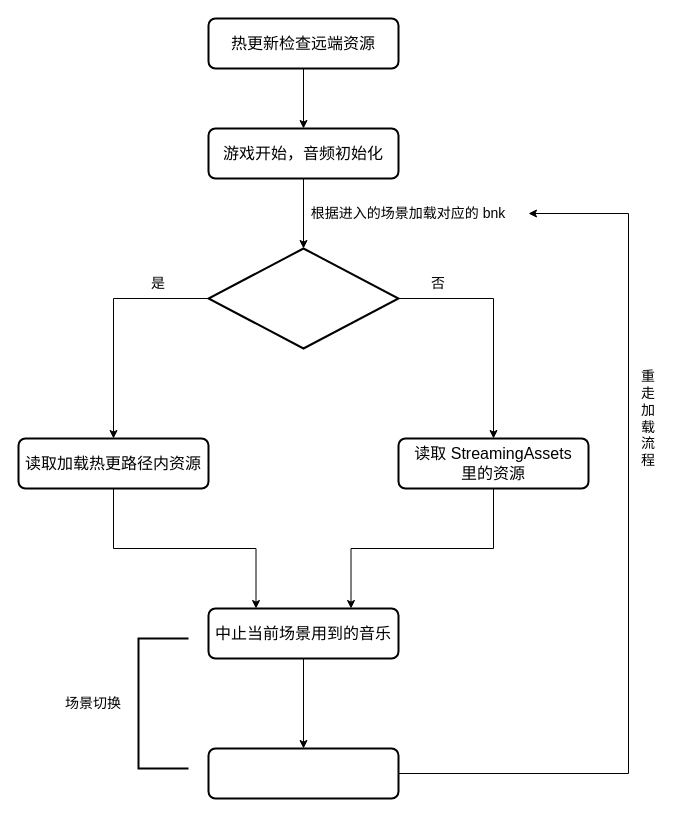
The diagram is 675 pixels wide and 816 high, and some of its shapes have lost their labels. Here are the shapes that lost their labels. From the top down, the centre of each, then its label:
At (303,298): "热更路径内是否有资源".
At (303,773): "卸载当前场景的 bnk".
